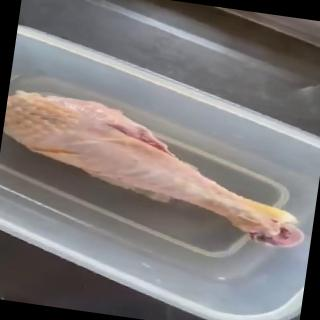Ayam: (1, 88, 320, 251)
